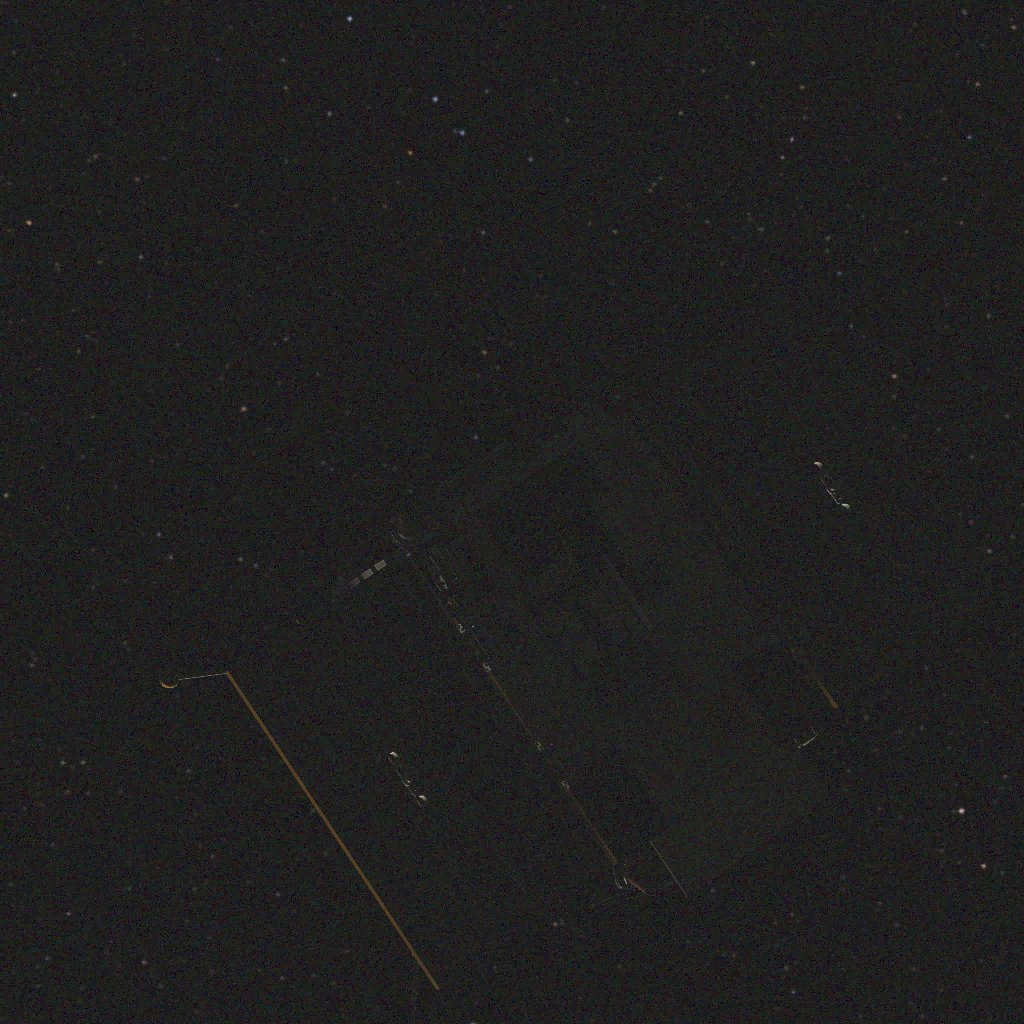proba_2: (160, 291, 999, 1024)
